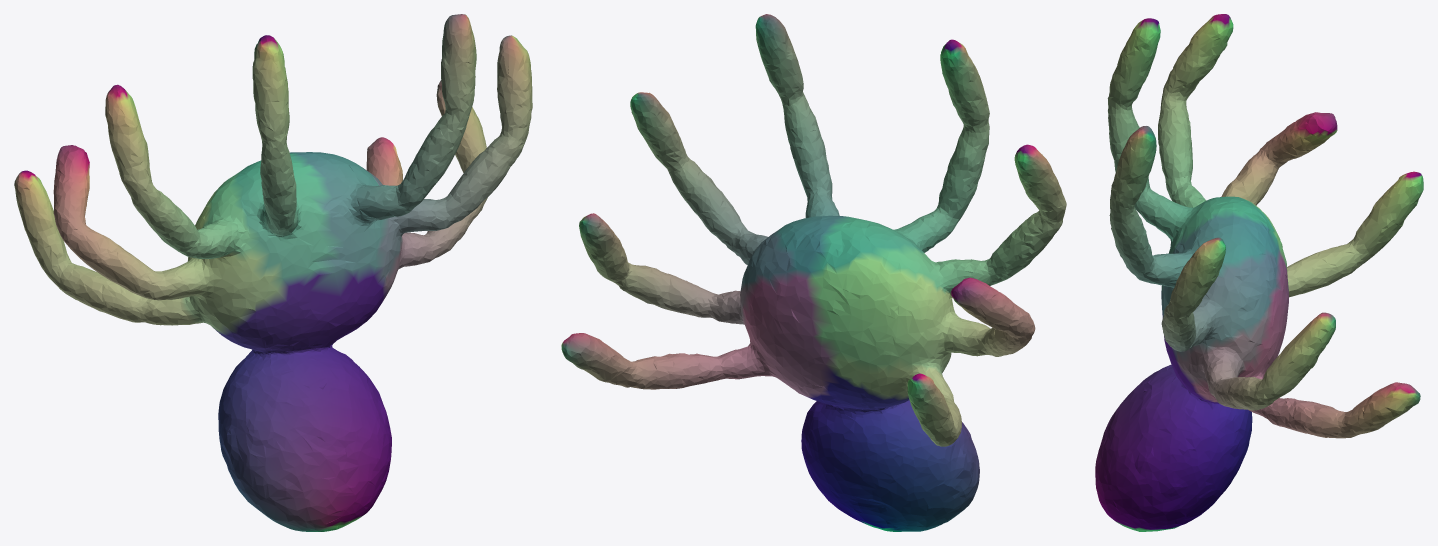
Rendered from spider-15.off.obj.
3 views of the same model, side by side, from view 1: azimuth 30°, elevation 25°; view 2: azimuth 150°, elevation 25°; view 3: azimuth 270°, elevation 25° (orthographic). The views are drawn at different scales.
Bounding box in the file's own units: 1.42 × 1.56 × 0.9657.
